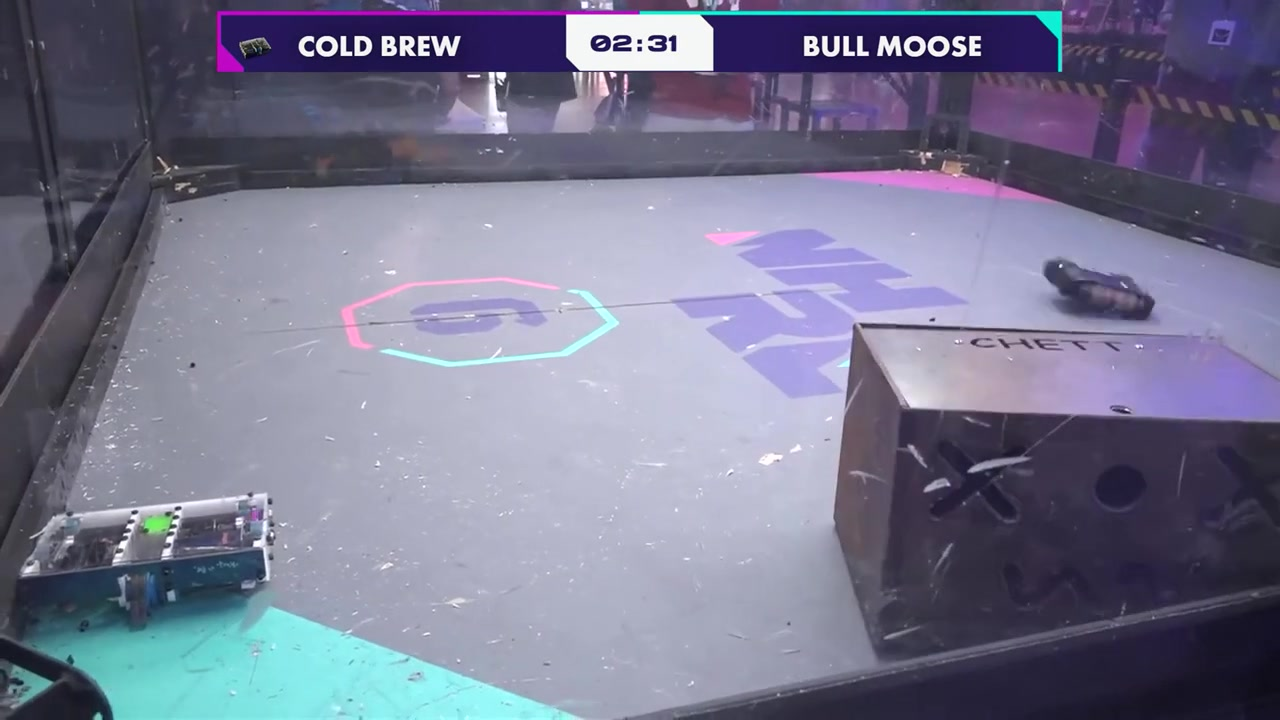combatbot: (18, 490, 281, 633), (1040, 256, 1153, 322)
housebot: (832, 323, 1280, 664)
